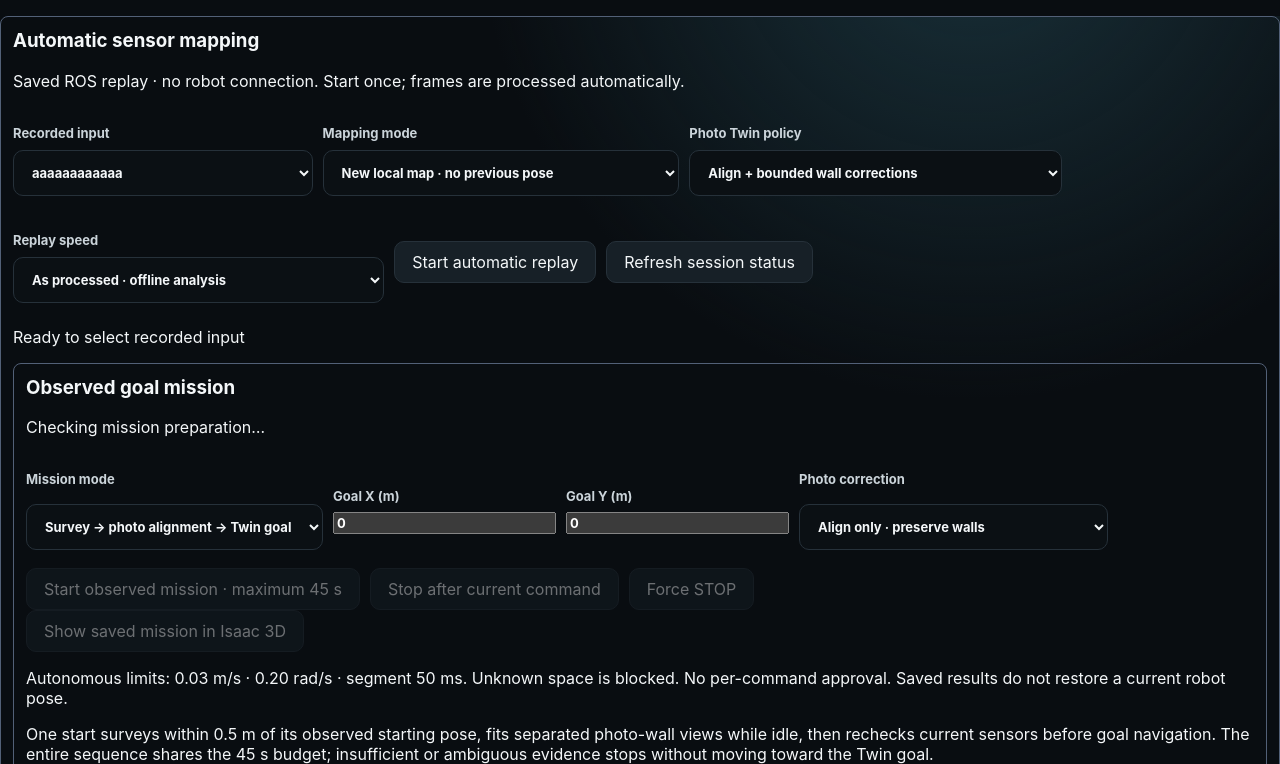
Test: automatic causal session › reopens a stored photo report as historical evidence without an Apply button
Click the button "Start automatic replay". click: point(495, 262)
box: x1=394 y1=241 x2=596 y2=283
(page scrolled)
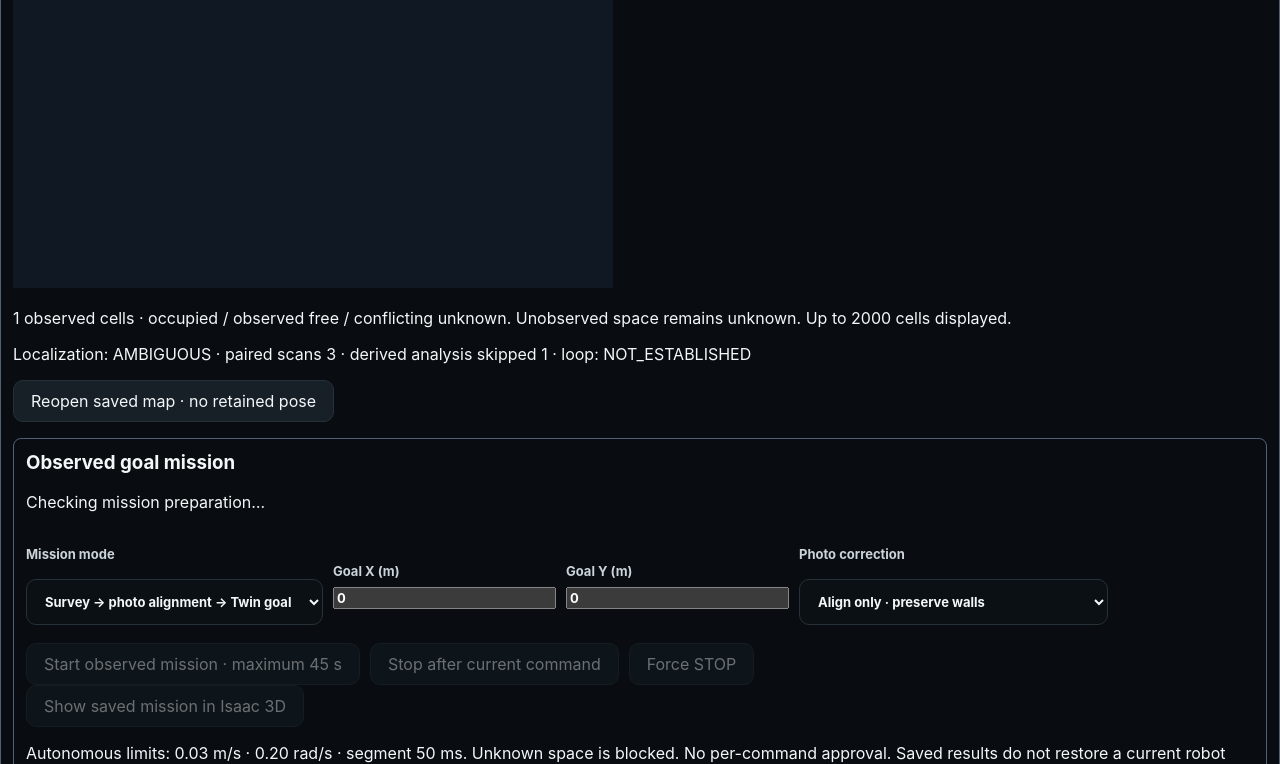
Click the button "Reopen saved map · no retained pose". click: point(174, 401)
box: x1=13 y1=380 x2=334 y2=422
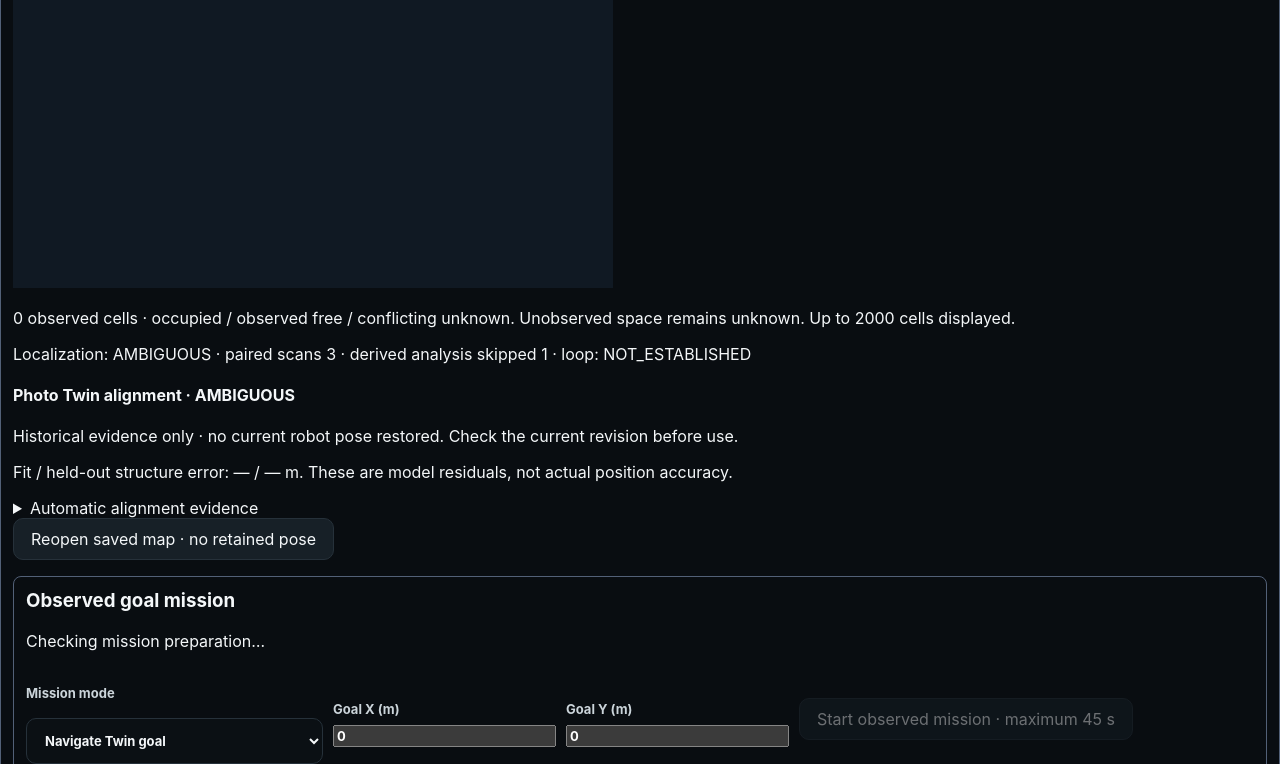
Result: the text "Historical evidence only" is shown at x1=13 y1=426 x2=738 y2=446
